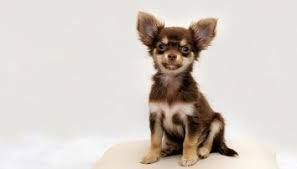chihuahua: (112, 1, 242, 166)
